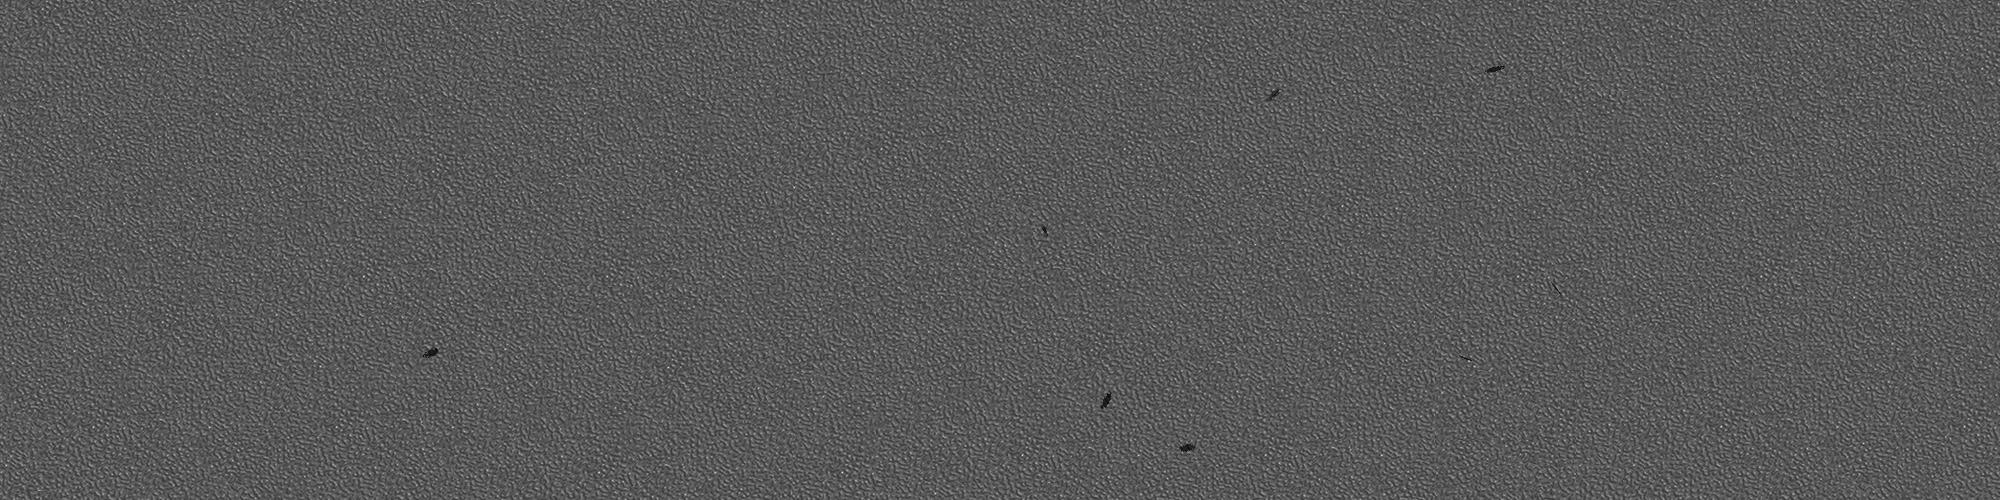Decomposed: (1173, 432, 1204, 455), (1480, 62, 1513, 80), (1263, 80, 1284, 105), (1092, 388, 1112, 413), (420, 341, 445, 358), (1036, 223, 1055, 239)
